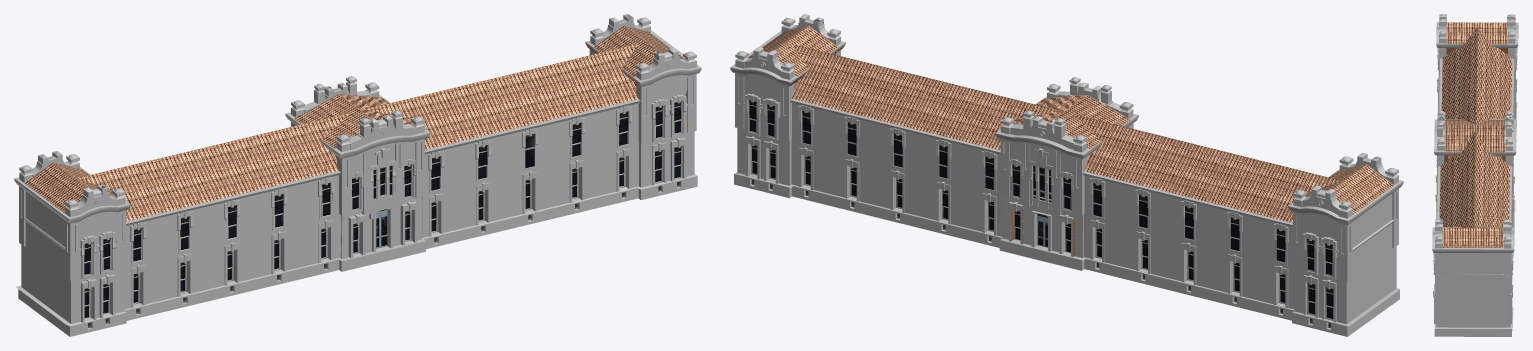
File: Pabellon2_DExp.fbx
3 views of the same model, side by side, from view 1: azimuth 30°, elevation 25°; view 2: azimuth 150°, elevation 25°; view 3: azimuth 270°, elevation 25° (orthographic). The views are drawn at different scales.
Visible parts, largest first — view 1: Empresas; view 2: Empresas; view 3: Empresas.
Part boxes in pixels (x1,y1,x2,y2): Empresas: (14, 14, 701, 336); Empresas: (730, 14, 1403, 336); Empresas: (1432, 14, 1518, 336).
Bounding box in the file's own units: 71.1 × 15.65 × 11.45.
